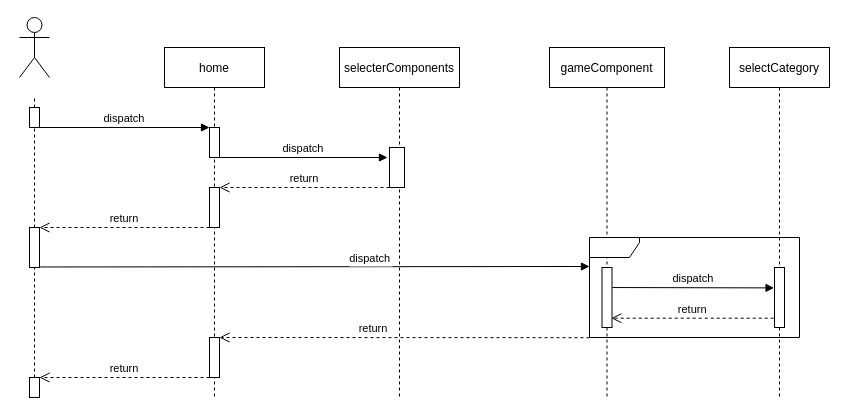
This 847x416 diagram has some shape labels left out. The shapes that lost their labels are listed below. From the top down, each one's centre as x and y in pixels, then its label:
[34,47]: Player
[694,287]: 9 times
